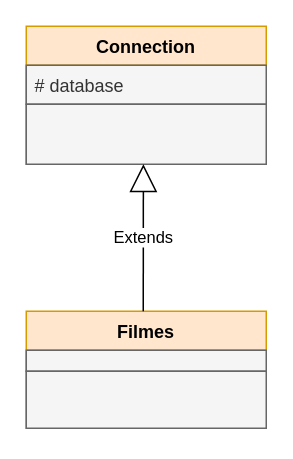
This 293x459 diagram has some shape labels left out. Here are the shapes that lost their labels. From the top down, the centre of each, then its label:
the point at 145,133: - connect: # consultaSimples: string
the point at 145,399: + getAll(): string +showTable(): string
